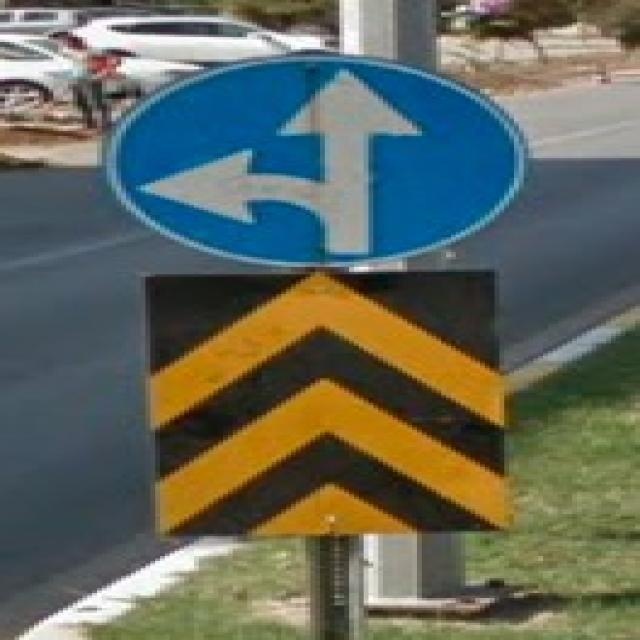Straight or Left: (105, 54, 522, 269)
